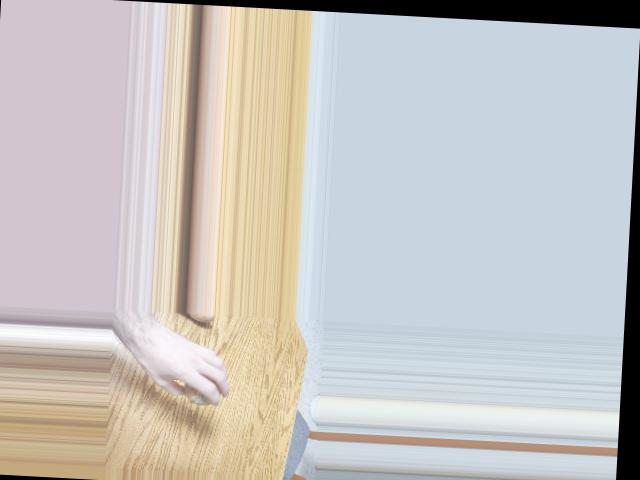onion: (180, 368, 226, 407)
